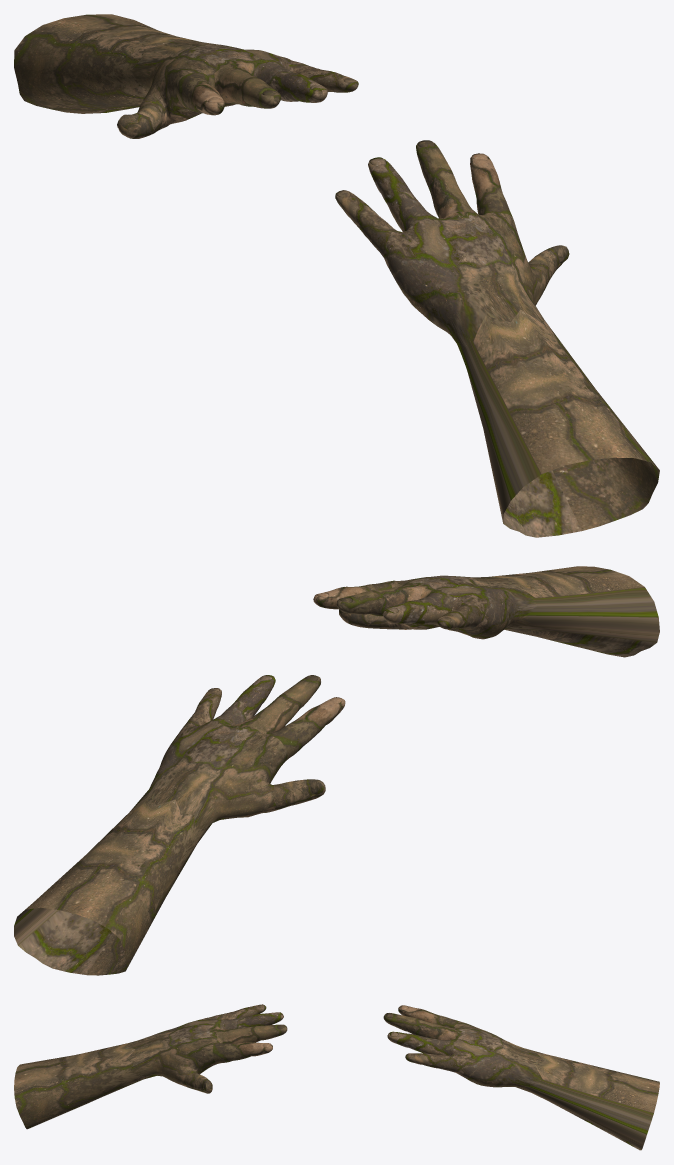
Rendered from hands_000012.obj.
The picture shows the model from 3 angles, top to bottom: view 1: azimuth 30°, elevation 25°; view 2: azimuth 150°, elevation 25°; view 3: azimuth 270°, elevation 25°; orthographic projection. The views are drawn at different scales.
Visible parts, largest first — view 1: hand.001_Mesh.001, hand_Mesh; view 2: hand_Mesh, hand.001_Mesh.001; view 3: hand_Mesh, hand.001_Mesh.001.
Part boxes in pixels (x1,y1,x2,y2): hand.001_Mesh.001: [335, 140, 659, 537]; hand_Mesh: [14, 14, 358, 138]; hand_Mesh: [14, 675, 345, 975]; hand.001_Mesh.001: [313, 566, 659, 657]; hand_Mesh: [383, 1005, 659, 1150]; hand.001_Mesh.001: [14, 1004, 287, 1129].
Size of the model in its own units: 1.58 by 1.42 by 7.13.
1 material, 1 textured.
